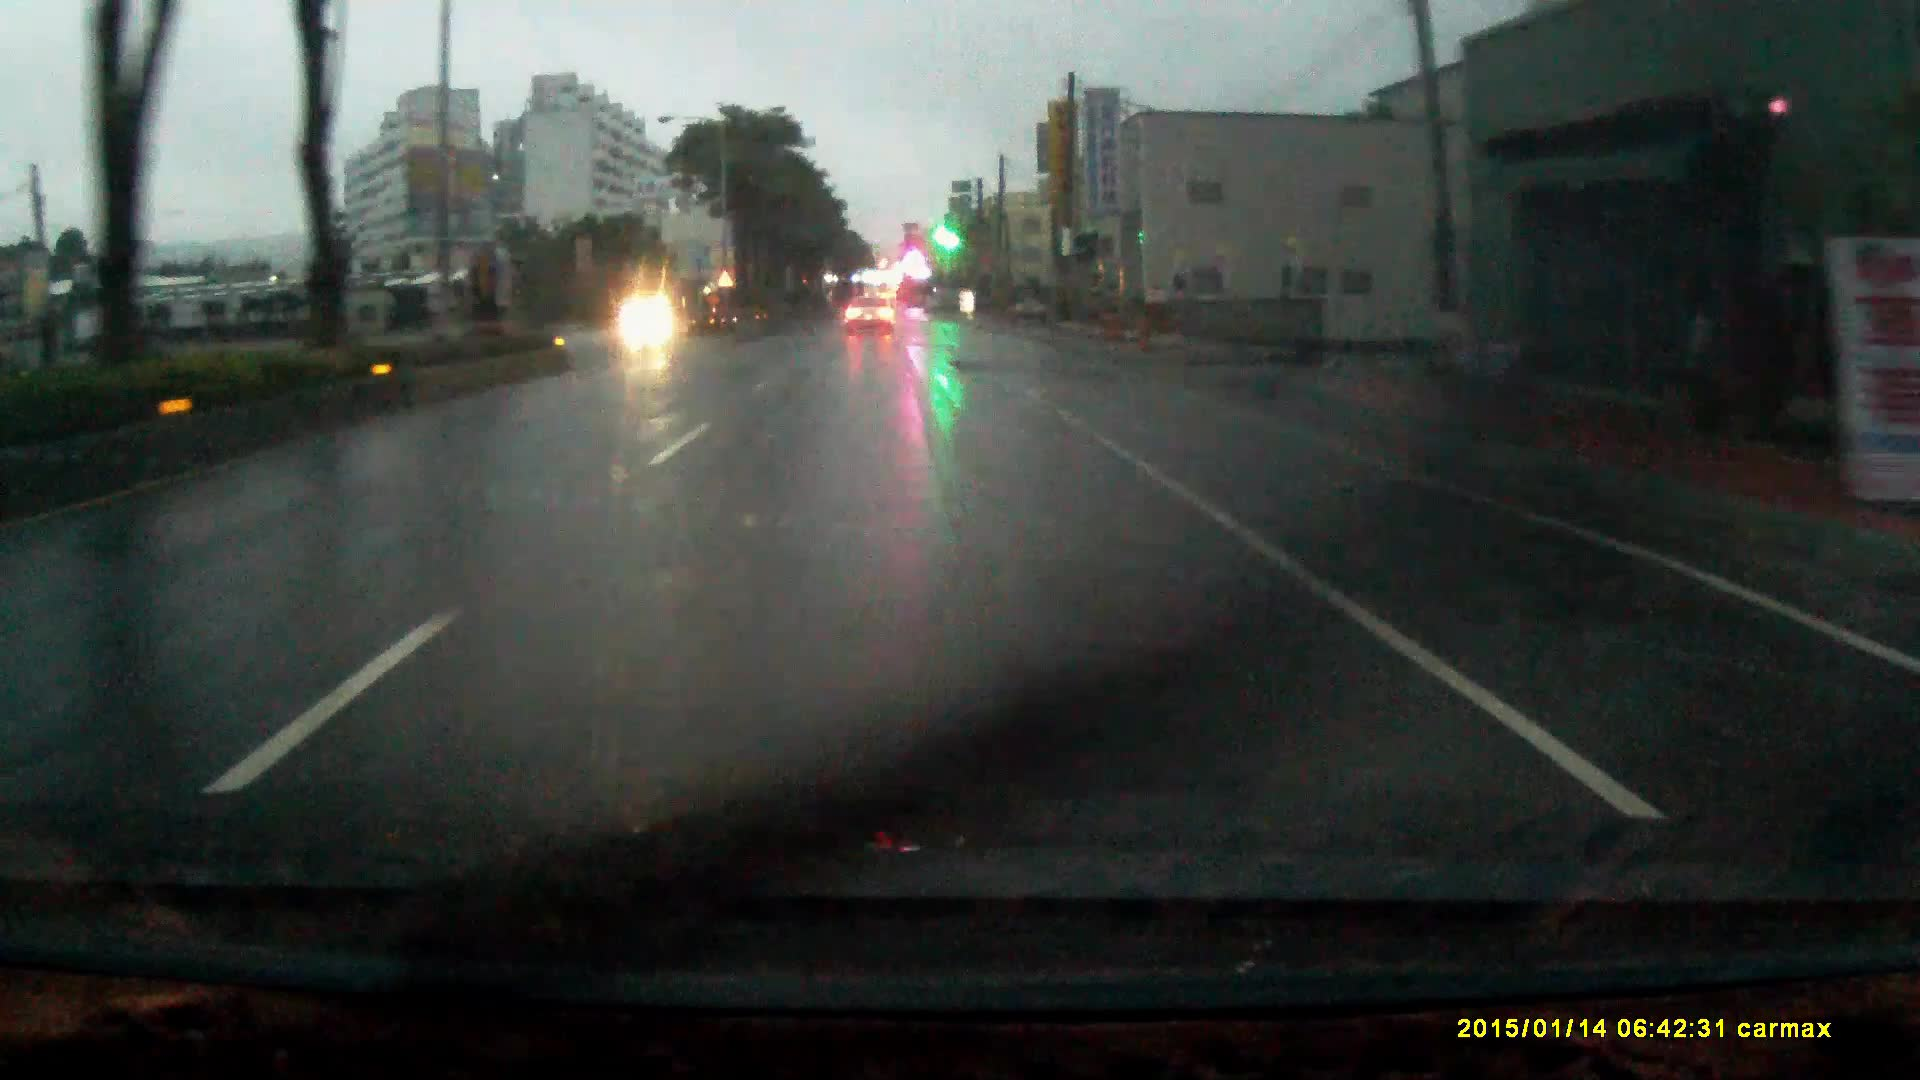vehicle: (847, 298, 899, 338), (1014, 285, 1051, 328)
